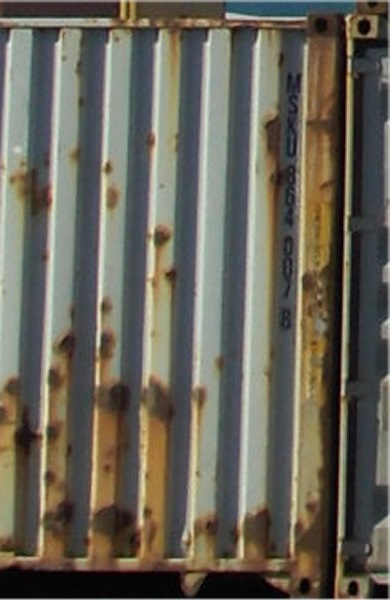container_no_door: (4, 8, 340, 596)
